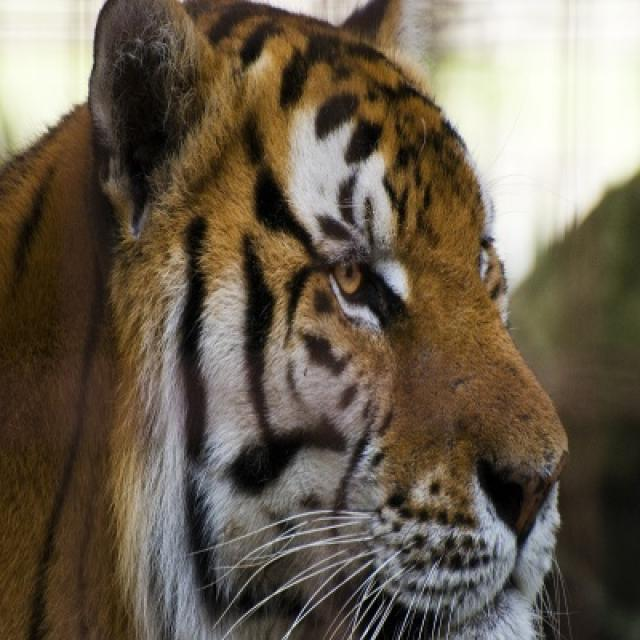Tiger: (0, 0, 566, 638)
